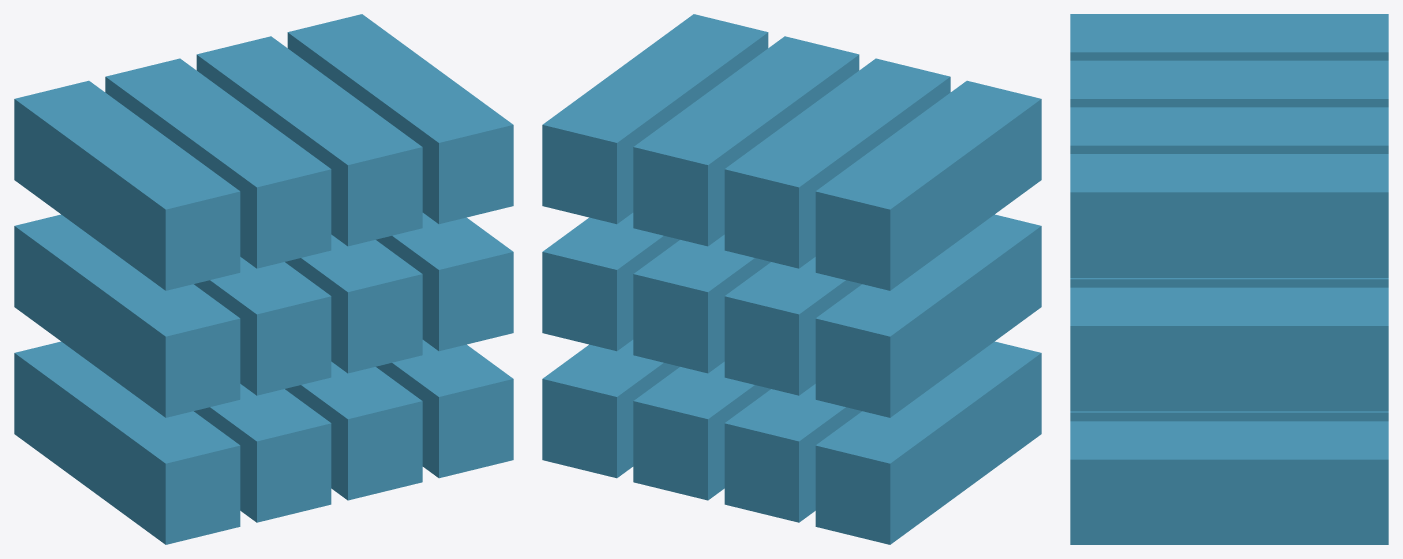
Rendered from FacadeKit_LowriseWindowGrid_LOD0.glb.
3 views of the same model, side by side, from view 1: azimuth 30°, elevation 25°; view 2: azimuth 150°, elevation 25°; view 3: azimuth 270°, elevation 25° (orthographic). The views are drawn at different scales.
Visible parts, largest first — view 1: FacadeKit_LowriseWindowGrid_LOD0; view 2: FacadeKit_LowriseWindowGrid_LOD0; view 3: FacadeKit_LowriseWindowGrid_LOD0.
Boxes of the visible parts, bbox=[...] form: FacadeKit_LowriseWindowGrid_LOD0: bbox=[14, 14, 513, 544]; FacadeKit_LowriseWindowGrid_LOD0: bbox=[542, 14, 1041, 544]; FacadeKit_LowriseWindowGrid_LOD0: bbox=[1070, 14, 1388, 544].
Size of the model in its own units: 0.955 by 0.88 by 0.72.
